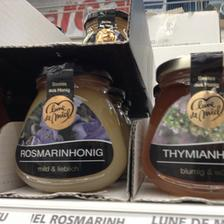Honig: (17, 64, 128, 191), (142, 52, 222, 198)
